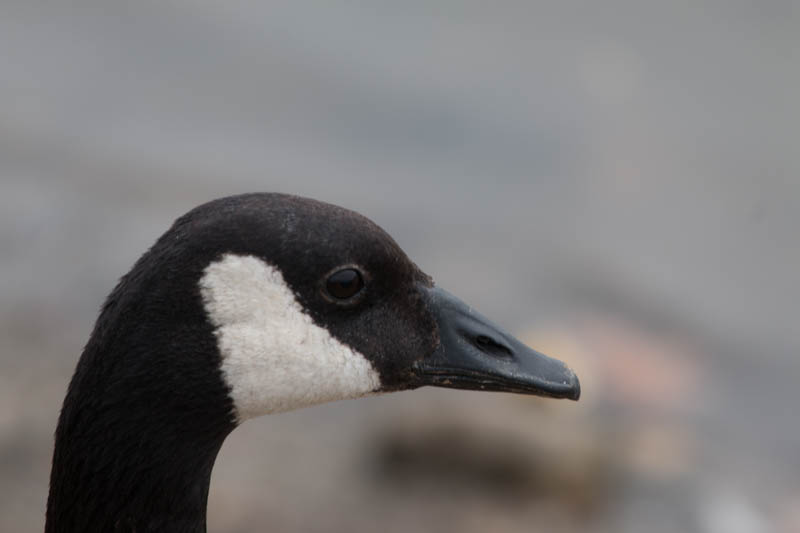goose-head: (55, 191, 581, 430)
